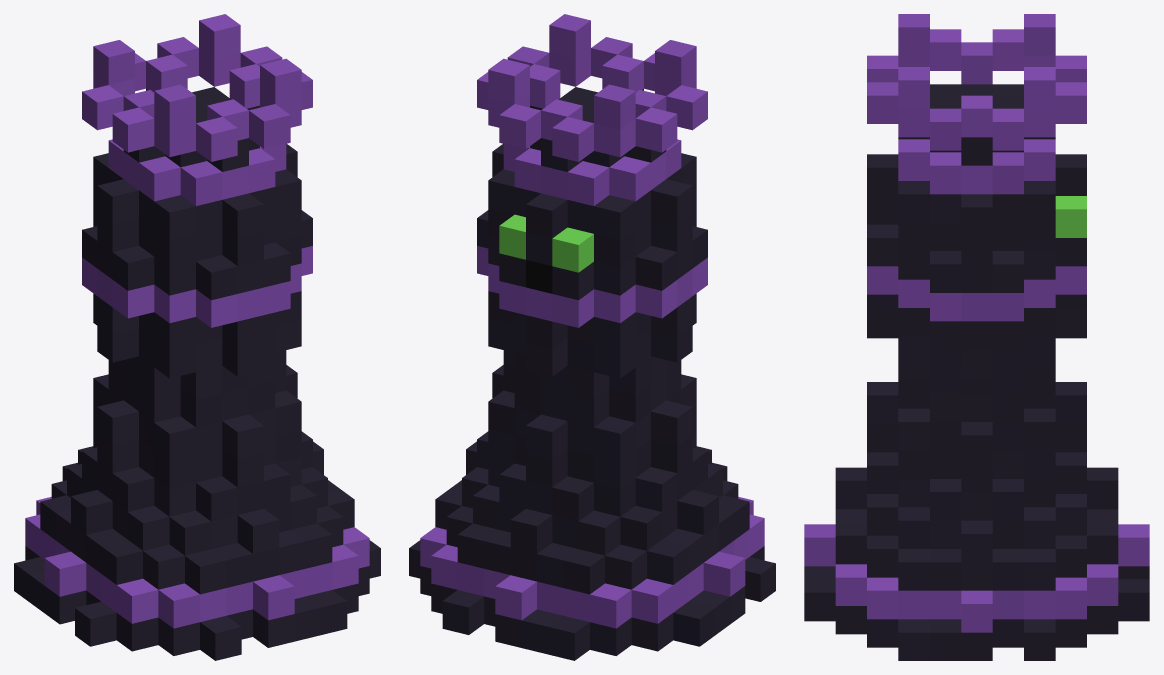
The model's file is black_queen.glb.
3 views of the same model, side by side, from view 1: azimuth 30°, elevation 25°; view 2: azimuth 150°, elevation 25°; view 3: azimuth 270°, elevation 25° (orthographic). The views are drawn at different scales.
Bounding box in the file's own units: 1.1 × 1.9 × 1.1.
